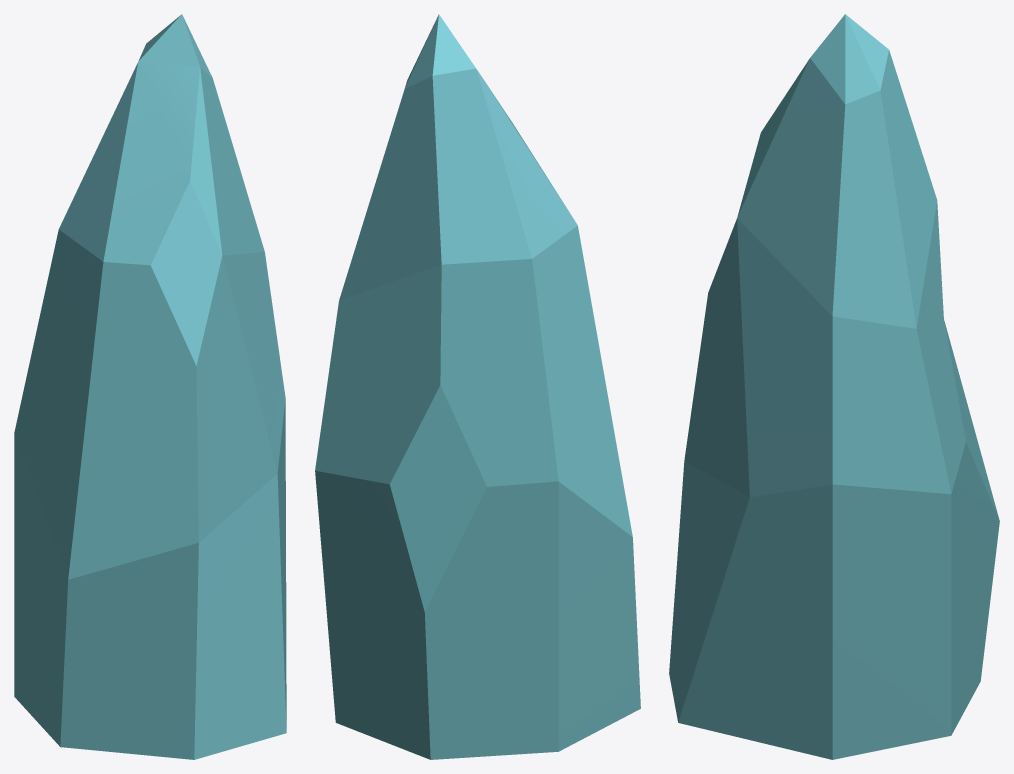
File: rock1.fbx
3 views of the same model, side by side, from view 1: azimuth 30°, elevation 25°; view 2: azimuth 150°, elevation 25°; view 3: azimuth 270°, elevation 25° (orthographic). The views are drawn at different scales.
Parts seen in each view (by area): view 1: rock1; view 2: rock1; view 3: rock1.
Boxes of the visible parts, x1,y1,x2,y2 form: rock1: [14, 14, 286, 759]; rock1: [315, 14, 640, 759]; rock1: [669, 14, 999, 759].
Size of the model in its own units: 122 by 304 by 131.
